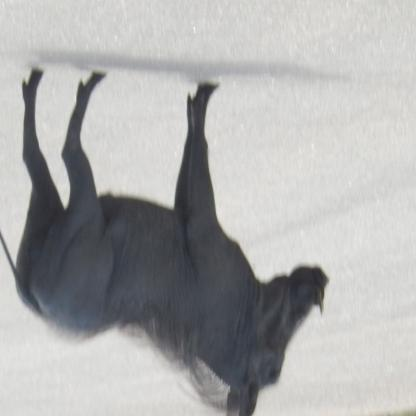boar: (0, 69, 330, 416)
